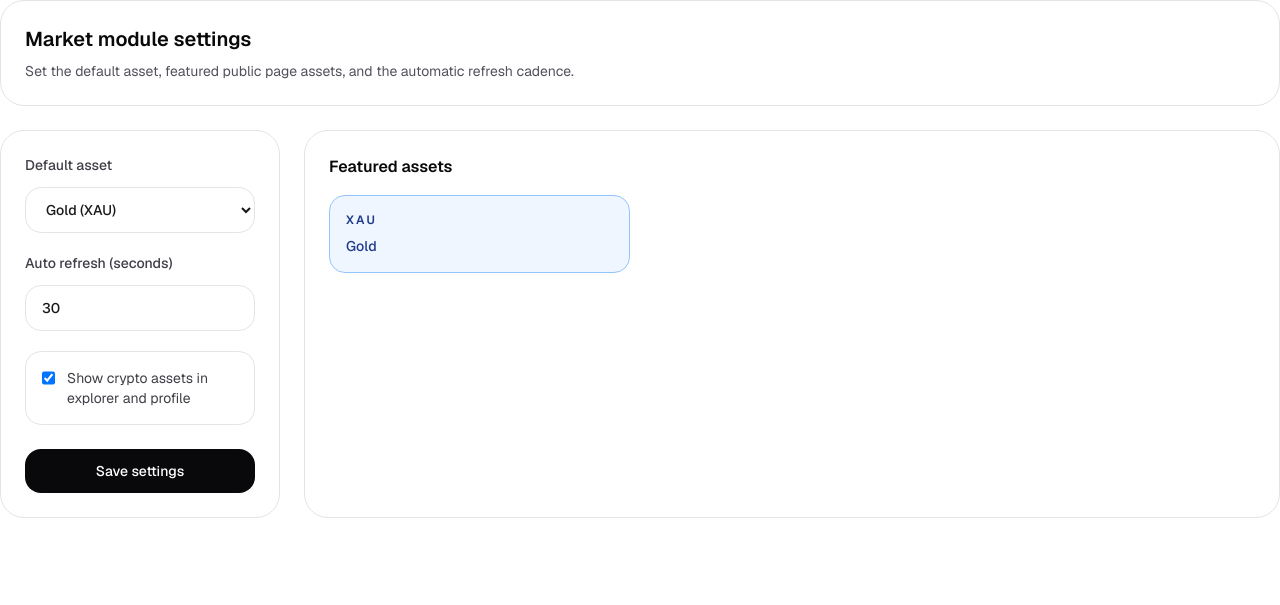
Scenario: MarketAdminPanel › shows save errors after a successful load
The width and height of the screenshot is (1280, 605).
Expected: the heading "Market module settings" is shown, x1=25 y1=26 x2=251 y2=52
Click the button "Save settings". click: (140, 471)
box: x1=25 y1=449 x2=255 y2=493
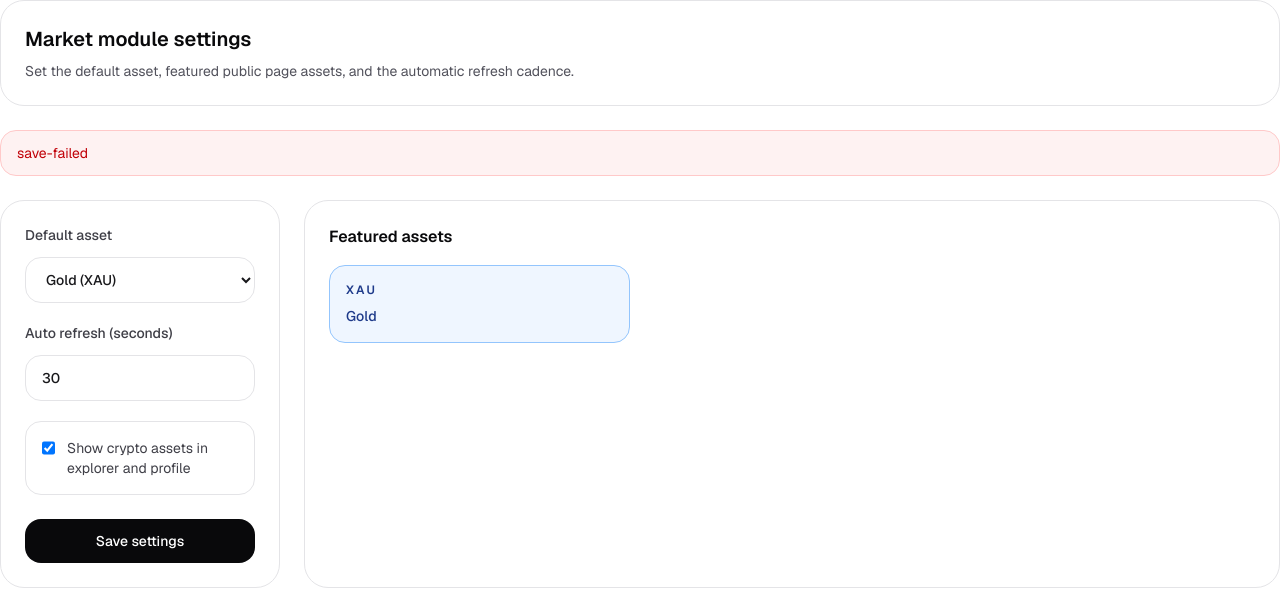
Now the text "save-failed" is shown, box x1=0 y1=130 x2=1279 y2=176
